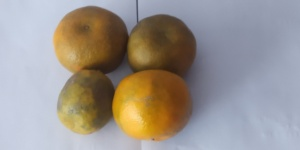BAD: (112, 66, 194, 142), (51, 3, 128, 73), (129, 3, 195, 80), (56, 67, 116, 135)
